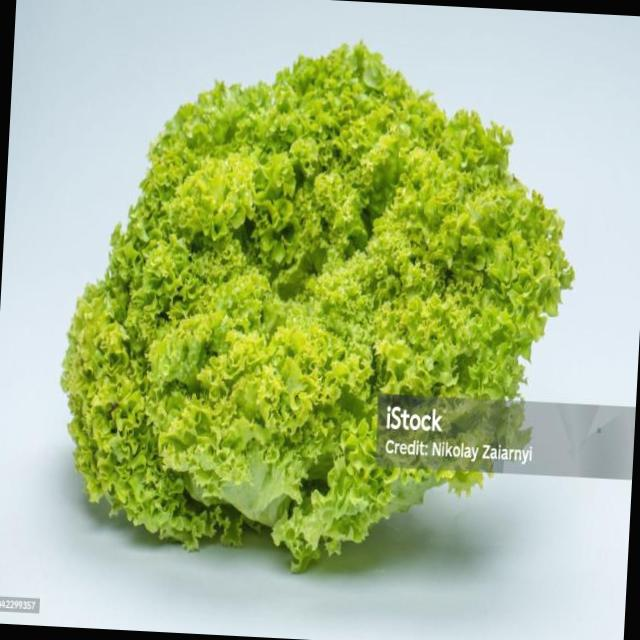Lettuce-Ready-to-Harvest: (63, 46, 573, 570)
